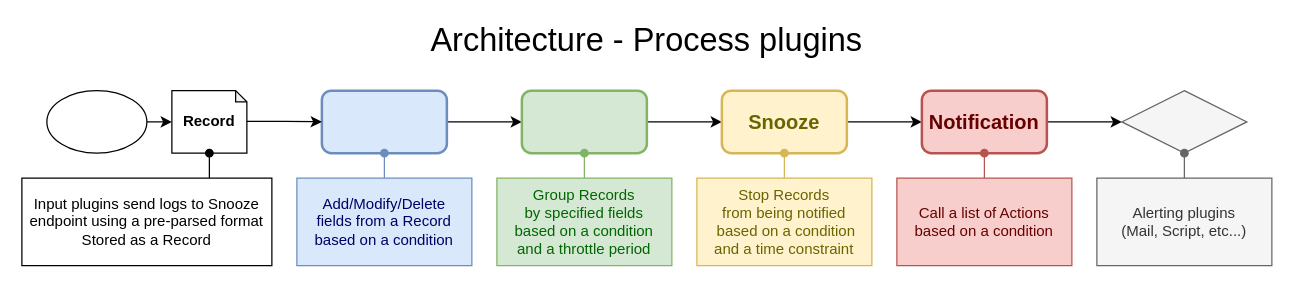
This 1294x288 diagram has some shape labels left out. Here are the shapes that lost their labels. From the top down, the centre of each, then its label:
At point (96, 121): "Input Webhook".
At point (384, 121): "Rule".
At point (584, 121): "Aggregate".
At point (1184, 121): "Action".
